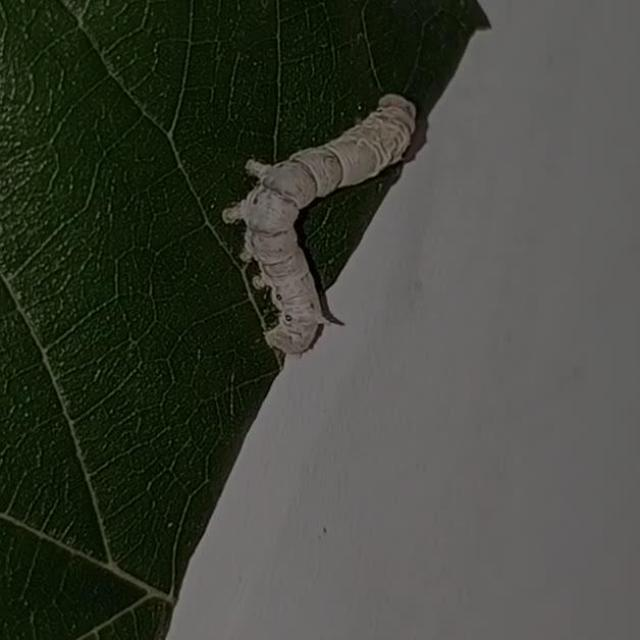Healthy: (197, 48, 419, 382)
